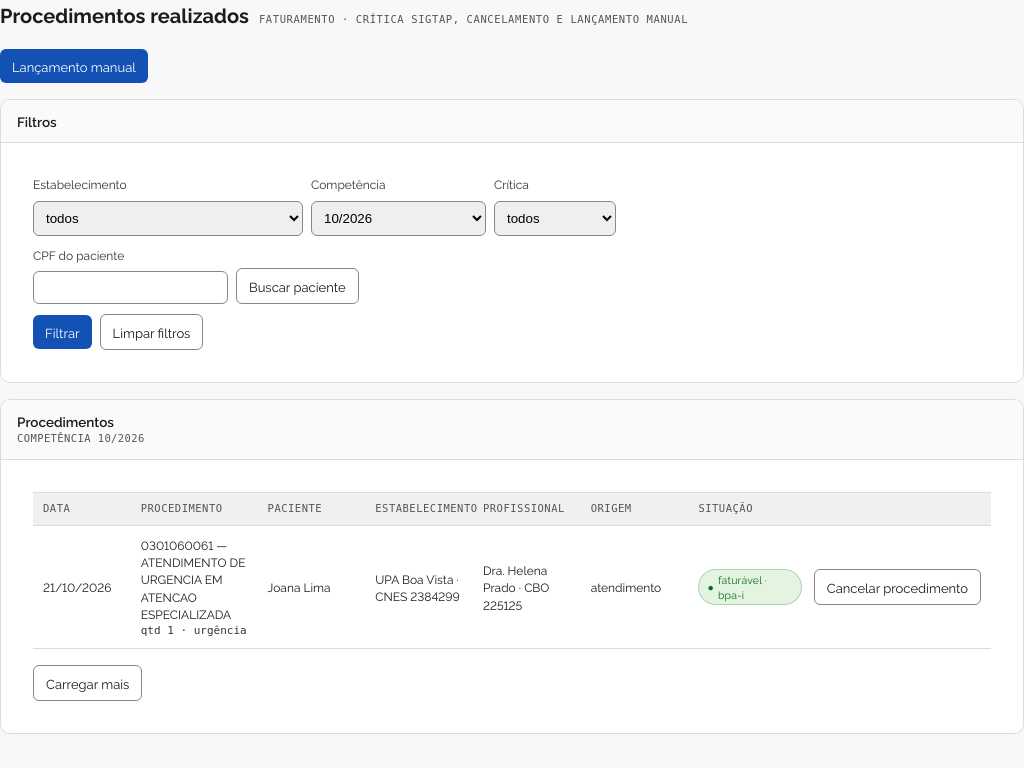
it: BillingProcedures › E19: uma ação relê só a 1ª página (uma trilha); foco e rede não releem
This screenshot has width=1024, height=768.
Click the button "Carregar mais": click(88, 684) top-left (33, 666), bottom-right (142, 702)
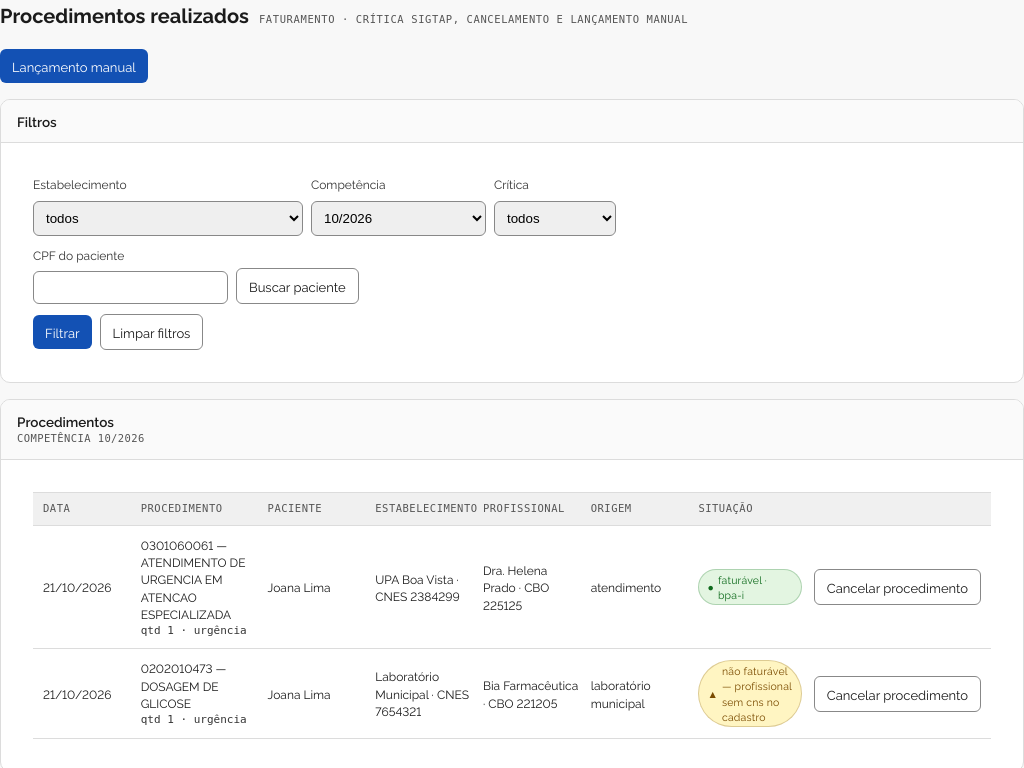
Now the text "0202010473 — DOSAGEM DE GLICOSE" is shown, box top-left (141, 660), bottom-right (226, 711)
Click the button "Cancelar procedimento" in the row of "UPA Boa Vista · CNES 2384299": click(897, 587) top-left (814, 569), bottom-right (981, 605)
(page scrolled)
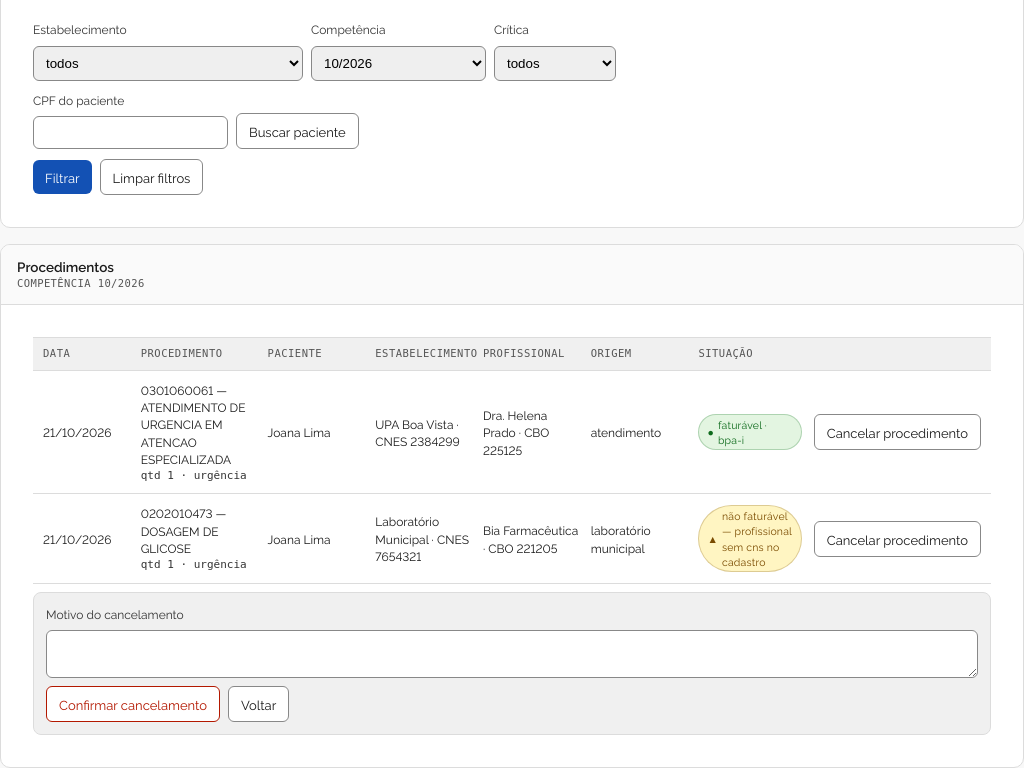
In the text box labelled "Motivo do cancelamento": (512, 654) top-left (46, 630), bottom-right (978, 678), type "registrado em duplicidade"
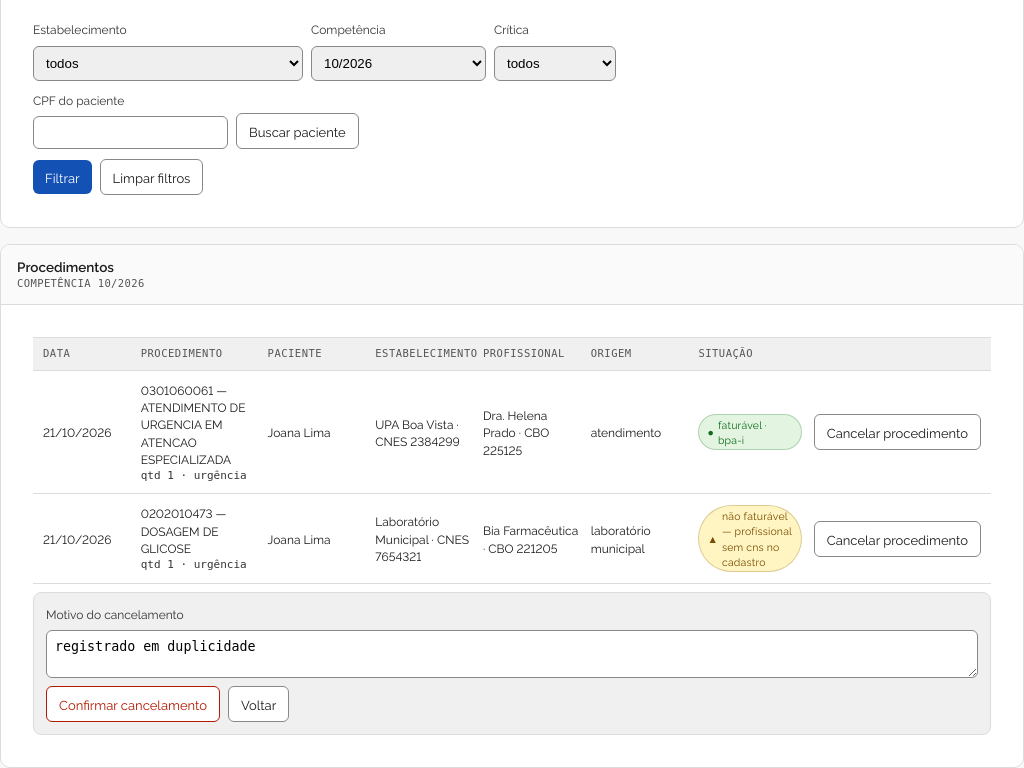
Click the button "Confirmar cancelamento": click(133, 704) top-left (46, 686), bottom-right (220, 722)
(page scrolled)
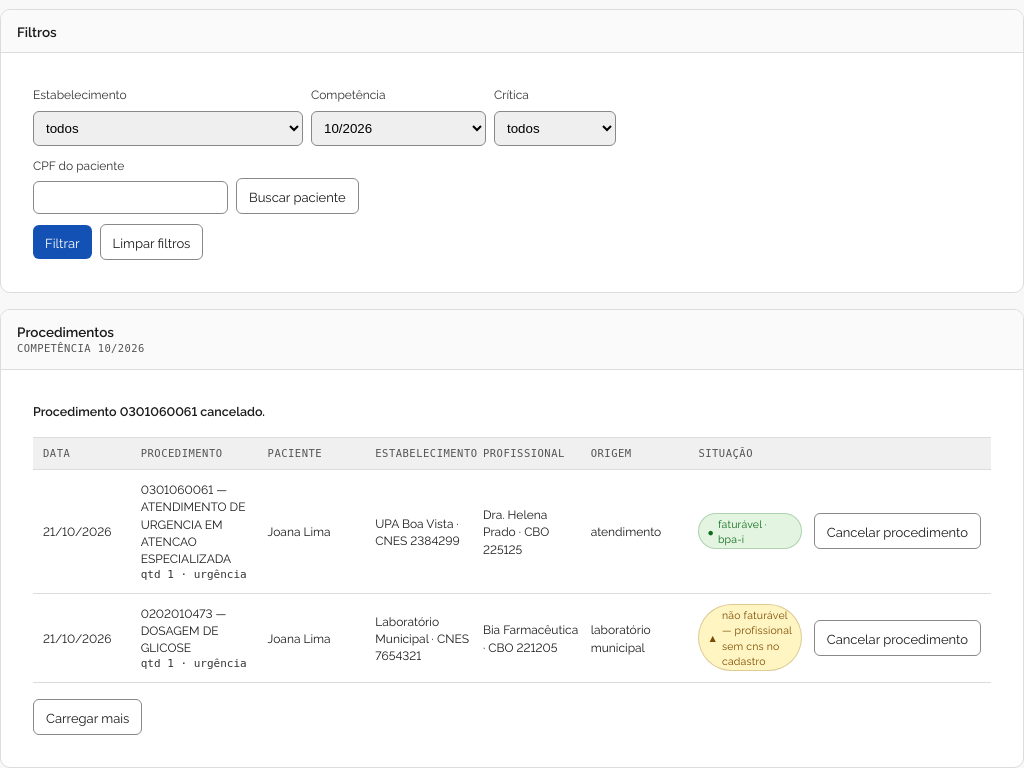
Now the text "Procedimento 0301060061 cancelado." is shown, box top-left (33, 402), bottom-right (265, 419)
